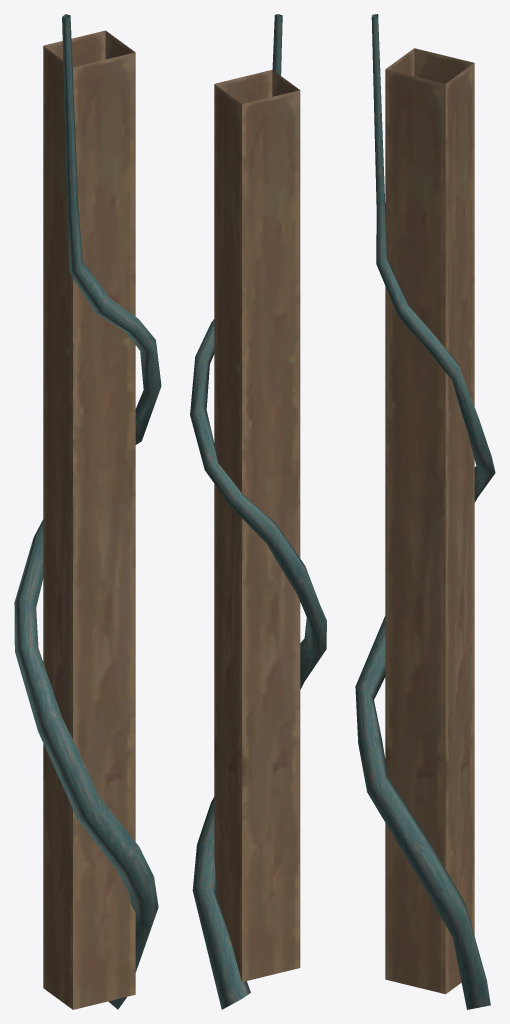
Rendered from Homeworld_Exterior_Common_Flower_Decoration_Green_02_B_Lod0.fbx.
The picture shows the model from 3 angles, left to right: view 1: azimuth 30°, elevation 25°; view 2: azimuth 210°, elevation 25°; view 3: azimuth 330°, elevation 25°; orthographic projection. The views are drawn at different scales.
Visible parts, largest first — view 1: Homeworld_Exterior_Common_Flower_Decoration_Green_02_B_Lod0; view 2: Homeworld_Exterior_Common_Flower_Decoration_Green_02_B_Lod0; view 3: Homeworld_Exterior_Common_Flower_Decoration_Green_02_B_Lod0.
Boxes of the visible parts, left/top/right/bottom form: Homeworld_Exterior_Common_Flower_Decoration_Green_02_B_Lod0: left=14, top=14, right=161, bottom=1009; Homeworld_Exterior_Common_Flower_Decoration_Green_02_B_Lod0: left=190, top=14, right=326, bottom=1009; Homeworld_Exterior_Common_Flower_Decoration_Green_02_B_Lod0: left=355, top=14, right=495, bottom=1009.
Bounding box in the file's own units: 0.159 × 1.27 × 0.1491.
